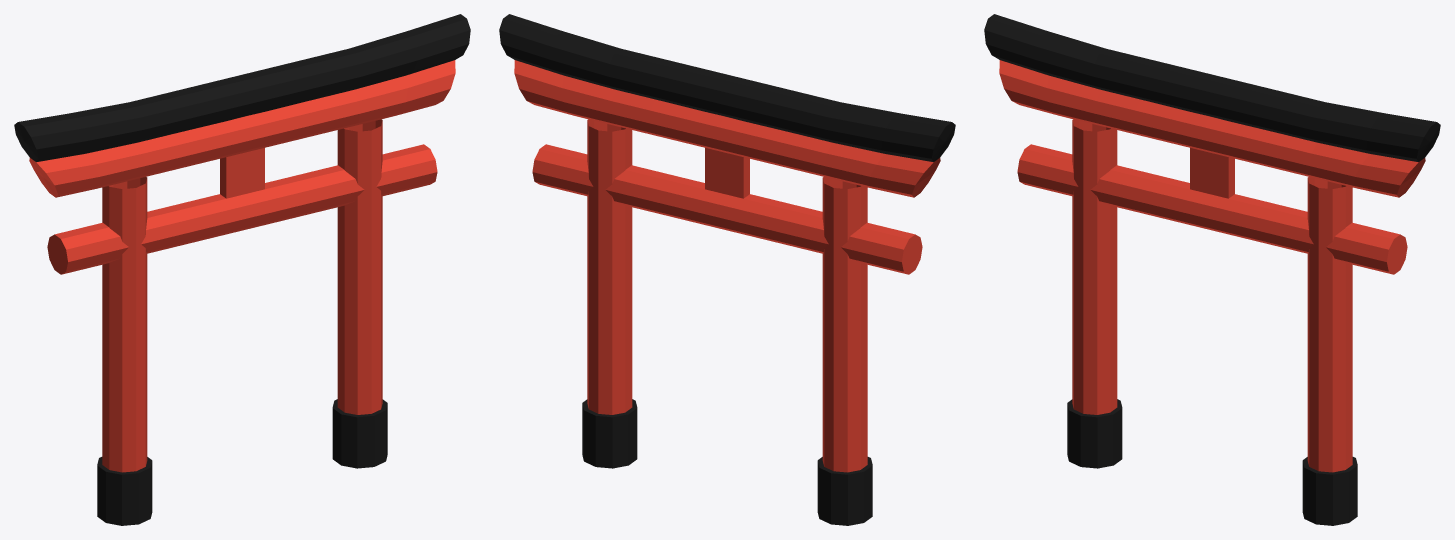
File: torii_mini.glb
3 views of the same model, side by side, from view 1: azimuth 30°, elevation 25°; view 2: azimuth 150°, elevation 25°; view 3: azimuth 330°, elevation 25° (orthographic).
Visible parts, largest first — view 1: torii; view 2: torii; view 3: torii.
Boxes of the visible parts, x1,y1,x2,y2 form: torii: (14, 14, 470, 525); torii: (499, 14, 955, 525); torii: (984, 14, 1440, 525).
Bounding box in the file's own units: 7.4 × 6.63 × 0.8184.
